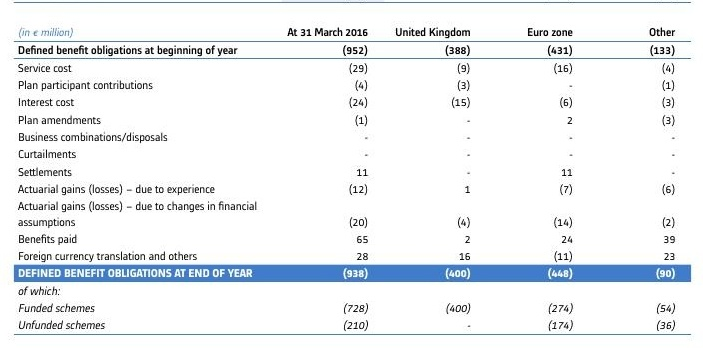table: (0, 0, 703, 348)
